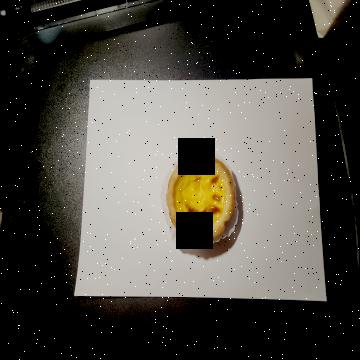EggTart: (166, 151, 238, 245)
